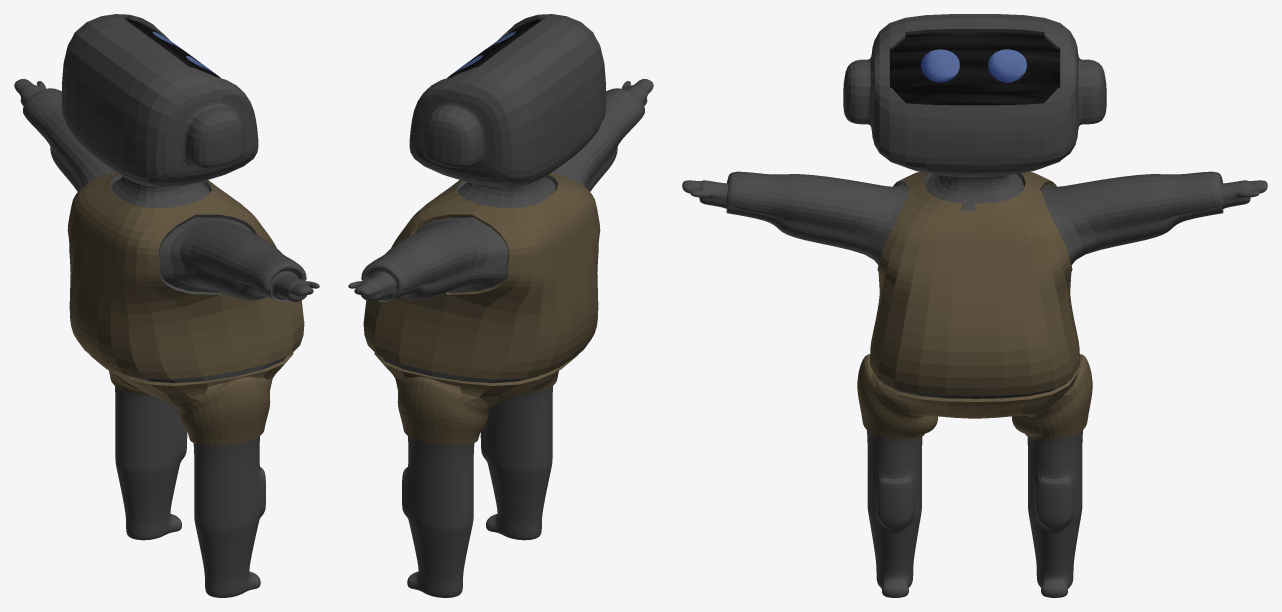
Rendered from Robot Fakir .fbx.
3 renders of one model, left to right at view 1: azimuth 30°, elevation 25°; view 2: azimuth 150°, elevation 25°; view 3: azimuth 270°, elevation 25°, orthographic.
Visible parts, largest first — view 1: Robo müşteri 1; view 2: Robo müşteri 1; view 3: Robo müşteri 1.
Part boxes in pixels (x1,y1,x2,y2): Robo müşteri 1: [14, 14, 319, 597]; Robo müşteri 1: [348, 14, 653, 597]; Robo müşteri 1: [682, 14, 1267, 597].
Bounding box in the file's own units: 62.31 × 164 × 161.
